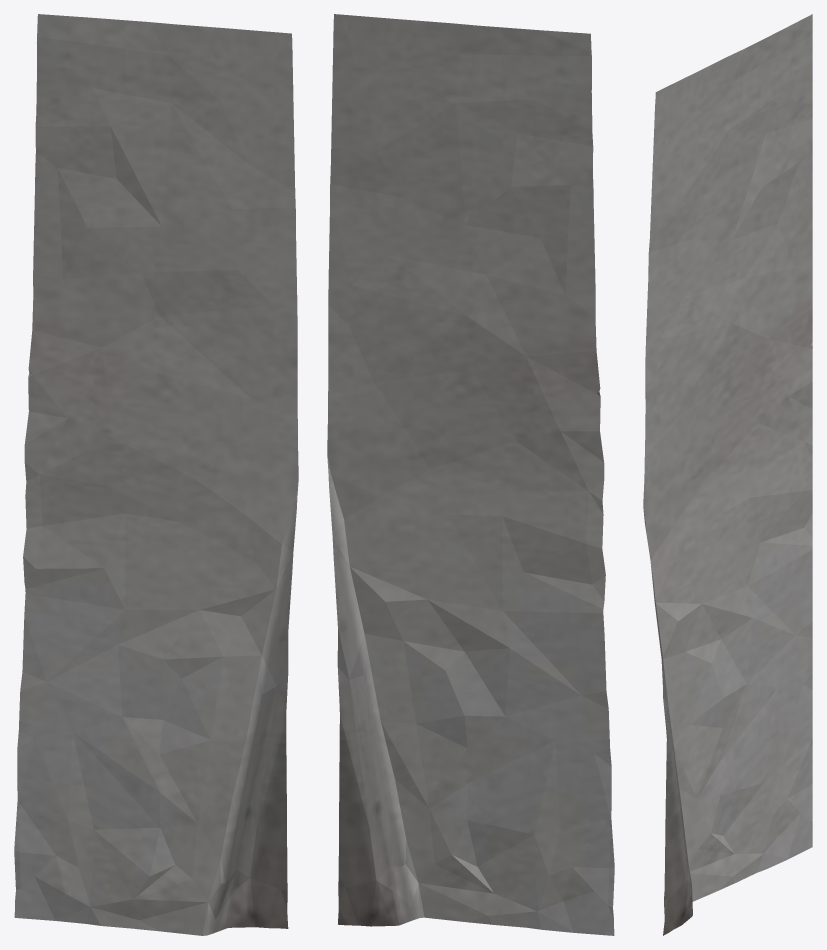
3 renders of one model, left to right at view 1: azimuth 30°, elevation 25°; view 2: azimuth 210°, elevation 25°; view 3: azimuth 270°, elevation 25°, orthographic. The views are drawn at different scales.
Size of the model in its own units: 0.1895 by 0.8374 by 0.1525.
1 material, 1 textured.
